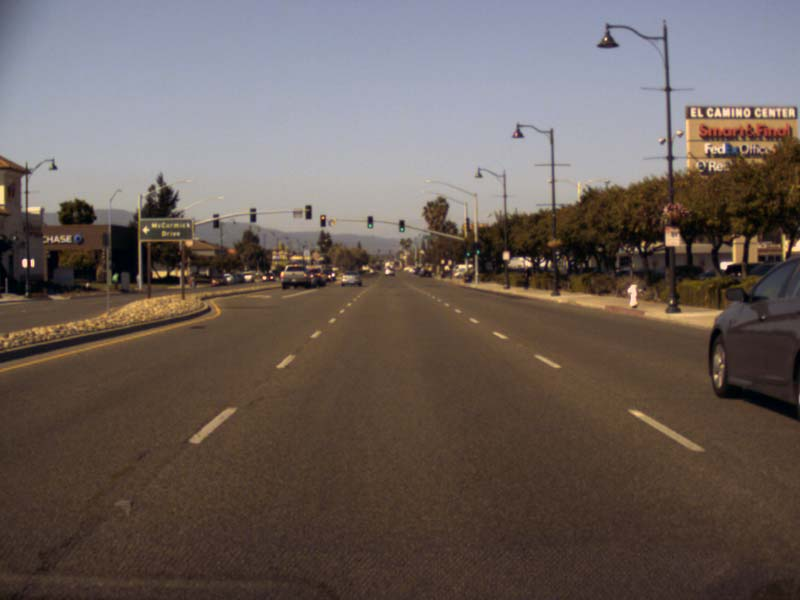Green: (398, 220, 404, 233), (367, 215, 372, 228), (475, 249, 480, 257), (466, 248, 470, 256)
Yellow: (320, 215, 325, 227)
